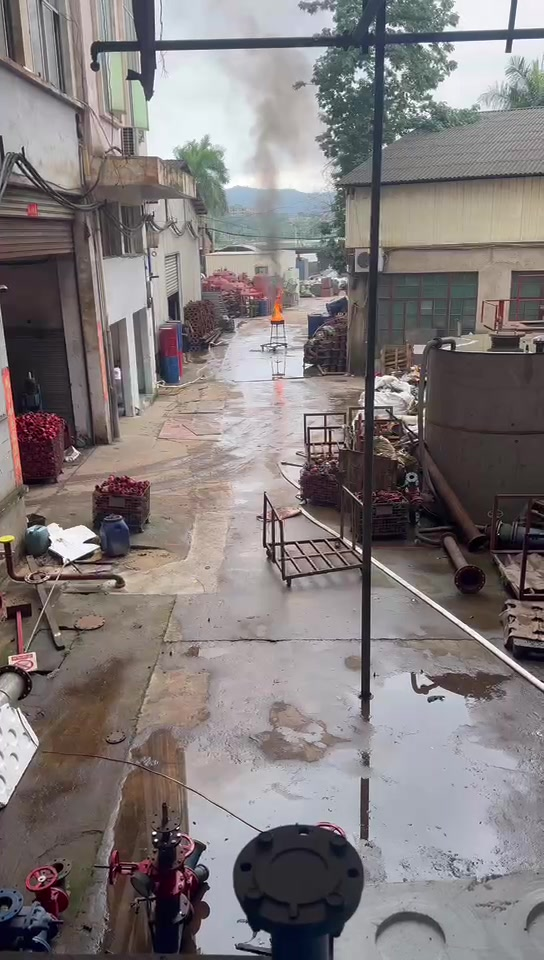fire: (271, 290, 285, 321)
